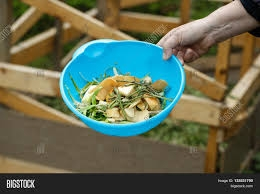kitchen_waste: (90, 76, 119, 101), (77, 103, 107, 122), (110, 82, 140, 98), (111, 71, 140, 87), (142, 92, 161, 111), (149, 77, 168, 91), (102, 107, 122, 120), (123, 104, 138, 118)
